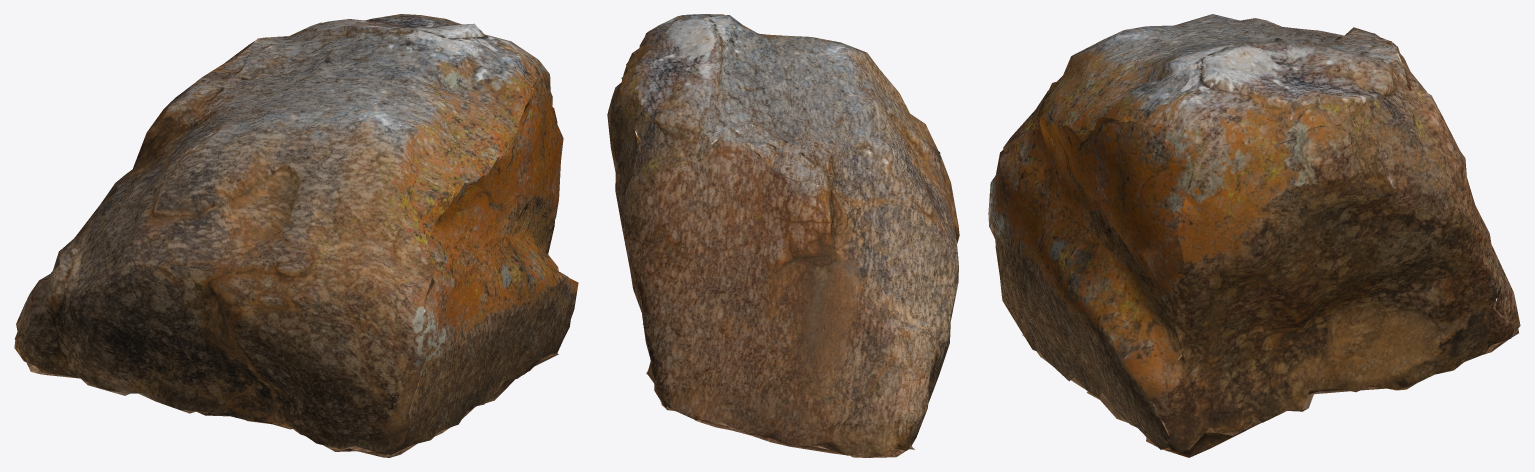
The model's file is pr_granite_b.fbx.
3 renders of one model, left to right at view 1: azimuth 30°, elevation 25°; view 2: azimuth 150°, elevation 25°; view 3: azimuth 270°, elevation 25°, orthographic. The views are drawn at different scales.
Parts seen in each view (by area): view 1: pr_granite_b_LOD0; view 2: pr_granite_b_LOD0; view 3: pr_granite_b_LOD0.
Part boxes in pixels (<box>): pr_granite_b_LOD0: <box>14,14,578,457</box>; pr_granite_b_LOD0: <box>607,14,959,457</box>; pr_granite_b_LOD0: <box>988,14,1520,457</box>.
Size of what is drawn, in the model's own units: 2.53 by 1.87 by 2.5.
